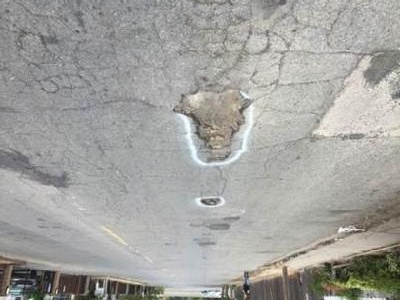pothole: (175, 86, 253, 163), (199, 196, 223, 209)
